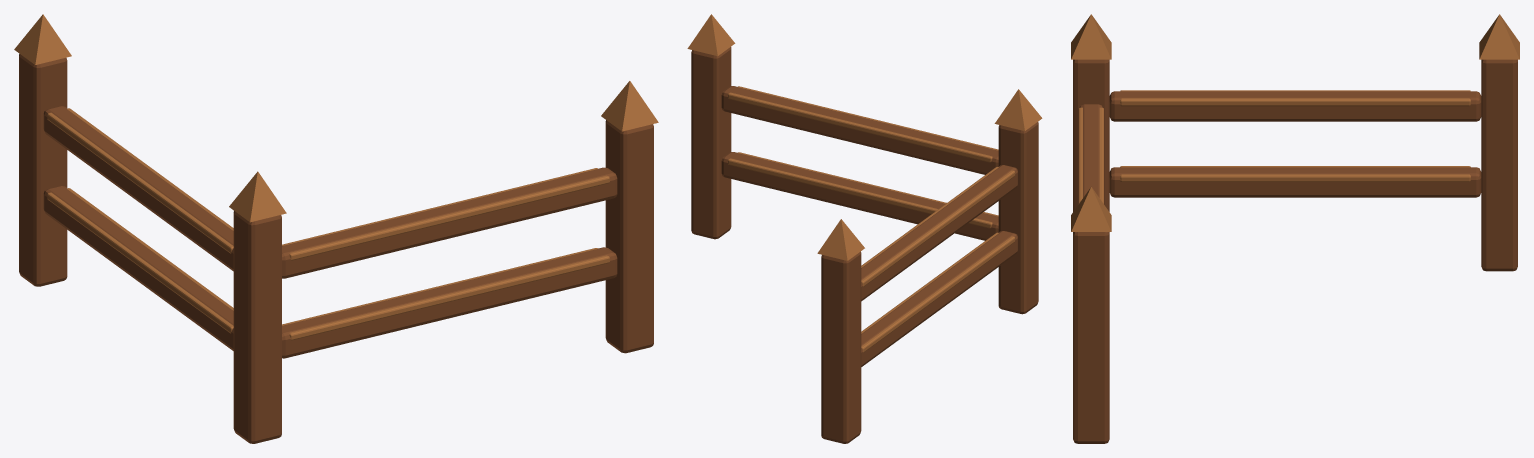
Rendered from FTF_Structure_Fence_DarkBrown_Corner_2m.glb.
3 views of the same model, side by side, from view 1: azimuth 30°, elevation 25°; view 2: azimuth 150°, elevation 25°; view 3: azimuth 270°, elevation 25° (orthographic). The views are drawn at different scales.
Visible parts, largest first — view 1: Corner_Post, EndX_Post, EndY_Post, SpanX_Rail_0, SpanX_Rail_1, SpanY_Rail_1, SpanY_Rail_0, SpanX_RailAccent_0, SpanX_RailAccent_1, SpanY_RailAccent_0, SpanY_RailAccent_1, Corner_Cap (+2 smaller); view 2: EndY_Post, EndX_Post, Corner_Post, SpanX_Rail_1, SpanX_Rail_0, SpanY_Rail_1, SpanY_Rail_0, SpanX_RailAccent_1, SpanX_RailAccent_0, SpanY_RailAccent_1, SpanY_RailAccent_0, Corner_Cap (+2 smaller); view 3: SpanY_Rail_0, SpanY_Rail_1, EndY_Post, EndX_Post, SpanY_RailAccent_1, SpanY_RailAccent_0, Corner_Post, SpanX_Rail_1, Corner_Cap, EndY_Cap, EndX_Cap, SpanX_RailAccent_1.
Part boxes in pixels (box(x1,y1,x2,y2)): Corner_Post: box(233, 211, 281, 443); EndX_Post: box(605, 120, 653, 353); EndY_Post: box(19, 54, 67, 286); SpanX_Rail_0: box(282, 247, 617, 358); SpanX_Rail_1: box(282, 167, 617, 278); SpanY_Rail_1: box(43, 106, 233, 271); SpanY_Rail_0: box(43, 186, 233, 350); SpanX_RailAccent_0: box(282, 248, 609, 340); SpanX_RailAccent_1: box(282, 168, 609, 260); SpanY_RailAccent_0: box(47, 188, 233, 333); SpanY_RailAccent_1: box(47, 108, 233, 253); Corner_Cap: box(229, 171, 286, 222); EndY_Post: box(821, 251, 861, 443); EndX_Post: box(691, 47, 731, 239); Corner_Post: box(998, 122, 1038, 314); SpanX_Rail_1: box(721, 86, 998, 174); SpanX_Rail_0: box(721, 152, 998, 240); SpanY_Rail_1: box(861, 165, 1017, 301); SpanY_Rail_0: box(861, 231, 1017, 366); SpanX_RailAccent_1: box(728, 86, 998, 162); SpanX_RailAccent_0: box(728, 152, 998, 228); SpanY_RailAccent_1: box(861, 167, 1015, 286); SpanY_RailAccent_0: box(861, 232, 1015, 352); Corner_Cap: box(994, 89, 1042, 130); SpanY_Rail_0: box(1109, 167, 1481, 197); SpanY_Rail_1: box(1109, 91, 1481, 121); EndY_Post: box(1481, 59, 1517, 271); EndX_Post: box(1073, 232, 1109, 443); SpanY_RailAccent_1: box(1120, 90, 1470, 106); SpanY_RailAccent_0: box(1120, 166, 1470, 181); Corner_Post: box(1073, 59, 1109, 211); SpanX_Rail_1: box(1080, 104, 1102, 197); Corner_Cap: box(1071, 14, 1111, 59); EndY_Cap: box(1479, 14, 1519, 59); EndX_Cap: box(1071, 186, 1111, 231); SpanX_RailAccent_1: box(1078, 107, 1103, 203).
Bounding box in the file's own units: 2.2 × 1.36 × 2.2.
